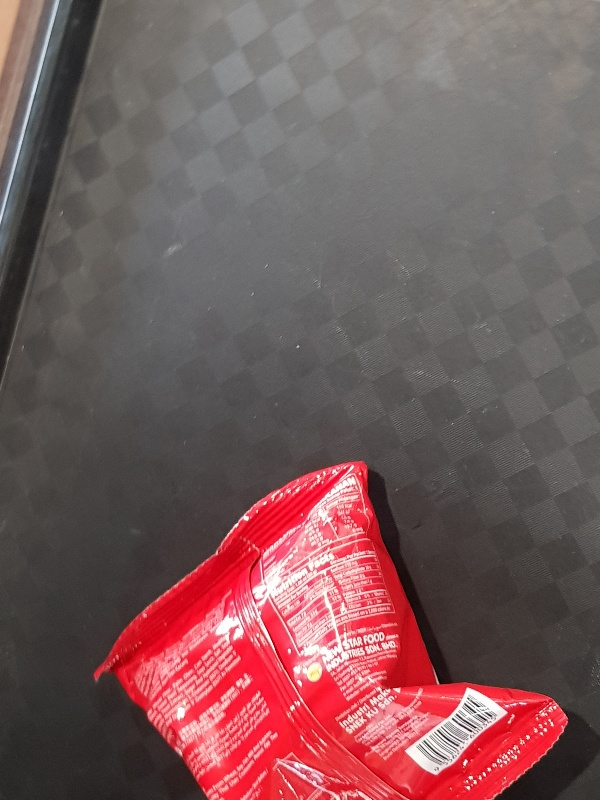ShoyueMi Spicy Flavoured Snacks: (92, 459, 570, 800)
